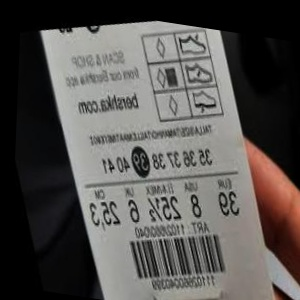bershka: (105, 48, 186, 128)
